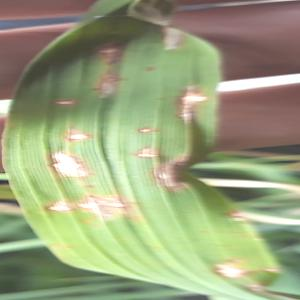1 RiceBlast: (135, 152, 204, 201), (75, 186, 144, 229), (214, 249, 275, 292), (91, 65, 142, 114), (41, 143, 91, 188), (174, 78, 210, 128), (32, 182, 75, 221), (216, 199, 263, 233), (120, 140, 161, 173), (124, 110, 167, 141), (50, 122, 97, 147), (100, 36, 133, 71), (41, 87, 75, 117)
